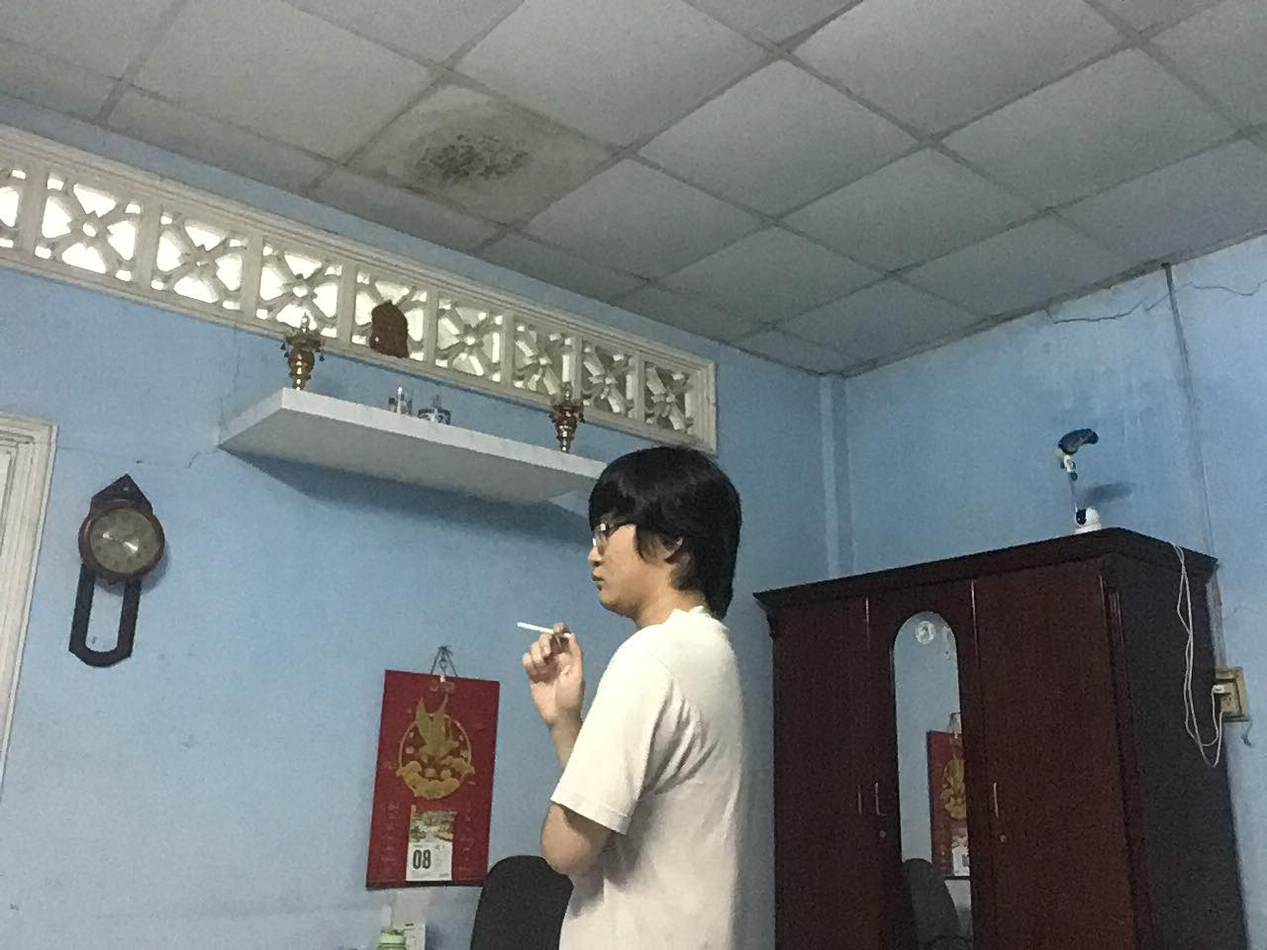cigarette: (513, 617, 555, 636)
person: (501, 443, 764, 948)
